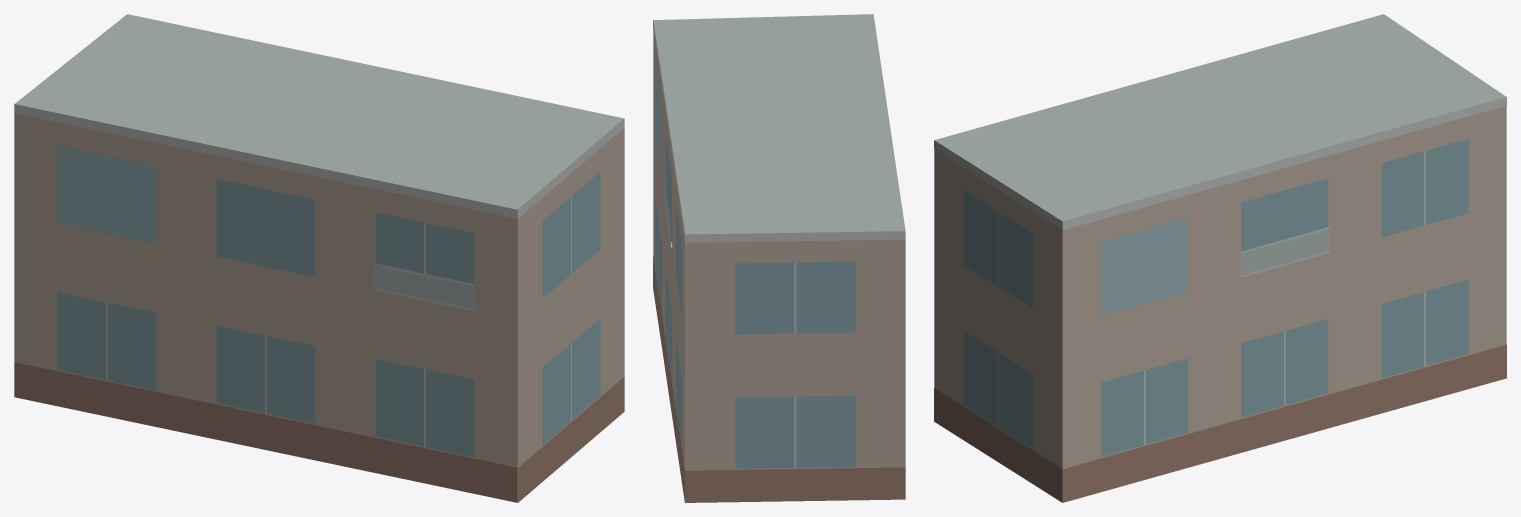
Rendered from survey-upis-32619274.glb.
3 renders of one model, left to right at view 1: azimuth 30°, elevation 25°; view 2: azimuth 150°, elevation 25°; view 3: azimuth 270°, elevation 25°, orthographic. The views are drawn at different scales.
Parts seen in each view (by area): view 1: survey-upis-32619274.tmp; view 2: survey-upis-32619274.tmp; view 3: survey-upis-32619274.tmp.
Part boxes in pixels (x1,y1,x2,y2): survey-upis-32619274.tmp: [14, 14, 624, 502]; survey-upis-32619274.tmp: [653, 14, 905, 502]; survey-upis-32619274.tmp: [934, 14, 1506, 502].
Bounding box in the file's own units: 12.34 × 7.8 × 14.39.
